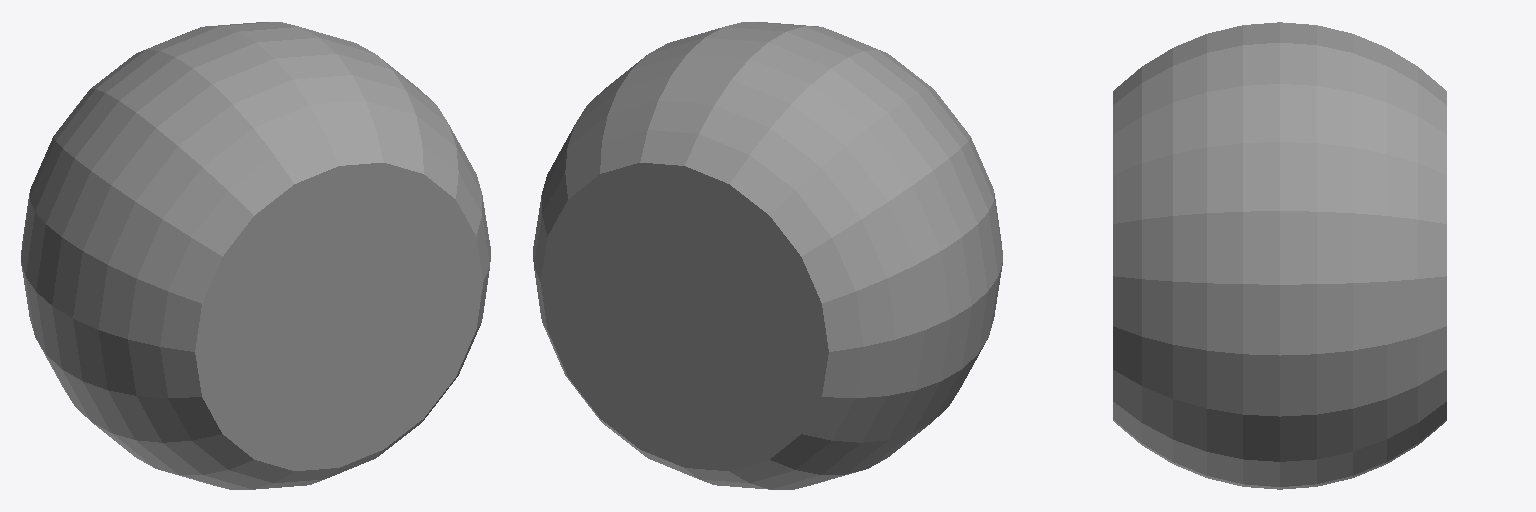
File: RShoulderPitch.obj
3 views of the same model, side by side, from view 1: azimuth 30°, elevation 25°; view 2: azimuth 150°, elevation 25°; view 3: azimuth 270°, elevation 25° (orthographic).
Visible parts, largest first — view 1: RShoulderPitch_JULIETTE_BRAS_DR_ALL; view 2: RShoulderPitch_JULIETTE_BRAS_DR_ALL; view 3: RShoulderPitch_JULIETTE_BRAS_DR_ALL.
Part boxes in pixels (bbox=[...]): RShoulderPitch_JULIETTE_BRAS_DR_ALL: bbox=[21, 22, 490, 489]; RShoulderPitch_JULIETTE_BRAS_DR_ALL: bbox=[533, 22, 1002, 489]; RShoulderPitch_JULIETTE_BRAS_DR_ALL: bbox=[1113, 22, 1446, 489].
Size of the model in its own units: 0.832 by 0.832 by 0.5883.